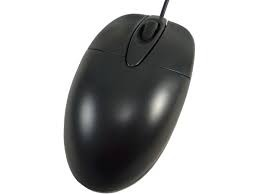mouse: (57, 9, 196, 193)
